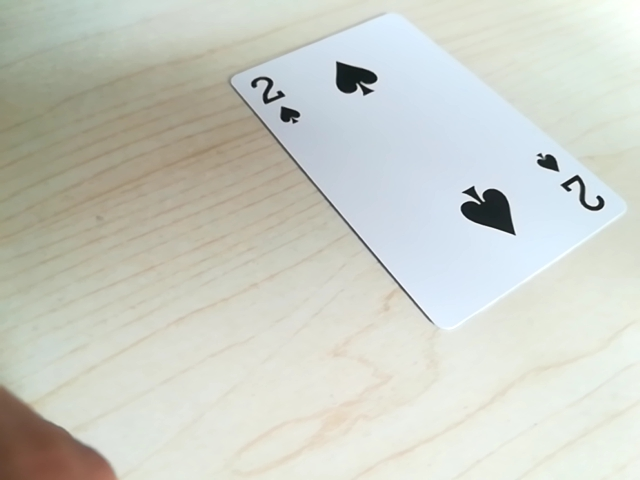ht 2: (533, 146, 609, 221), (237, 64, 303, 132)
